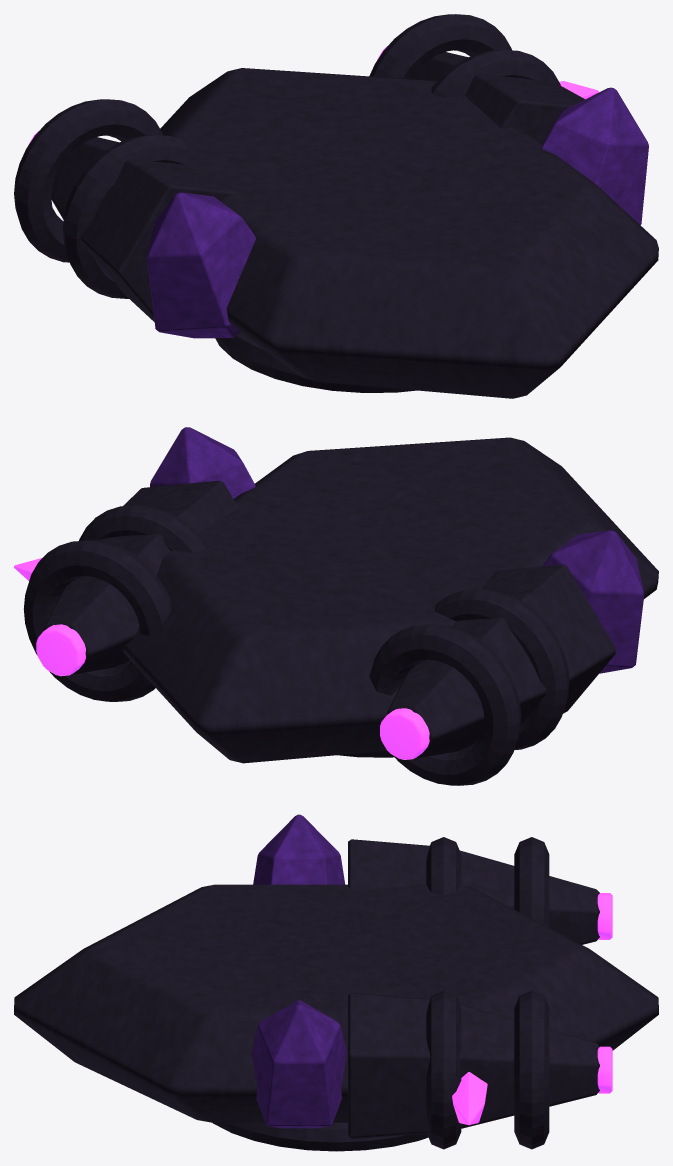
Rendered from conclave_aurore.gltf.
The picture shows the model from 3 angles, top to bottom: view 1: azimuth 30°, elevation 25°; view 2: azimuth 150°, elevation 25°; view 3: azimuth 270°, elevation 25°; orthographic projection. The views are drawn at different scales.
Visible parts, largest first — view 1: Body.018_Geometry, GunRecoil.017_Geometry, GunRecoil.018_Geometry; view 2: Body.018_Geometry, GunRecoil.017_Geometry, GunRecoil.018_Geometry; view 3: Body.018_Geometry, GunRecoil.018_Geometry, GunRecoil.017_Geometry.
Boxes of the visible parts, x1,y1,x2,y2 form: Body.018_Geometry: (147, 68, 658, 398); GunRecoil.017_Geometry: (14, 99, 239, 321); GunRecoil.018_Geometry: (369, 14, 598, 144); Body.018_Geometry: (123, 427, 658, 763); GunRecoil.017_Geometry: (369, 564, 615, 785); GunRecoil.018_Geometry: (14, 480, 238, 701); Body.018_Geometry: (14, 814, 658, 1151); GunRecoil.018_Geometry: (348, 990, 612, 1149); GunRecoil.017_Geometry: (348, 837, 612, 944).
Bounding box in the file's own units: 2.45 × 0.8697 × 2.77.
Materials: 3 (2 with a texture image).
